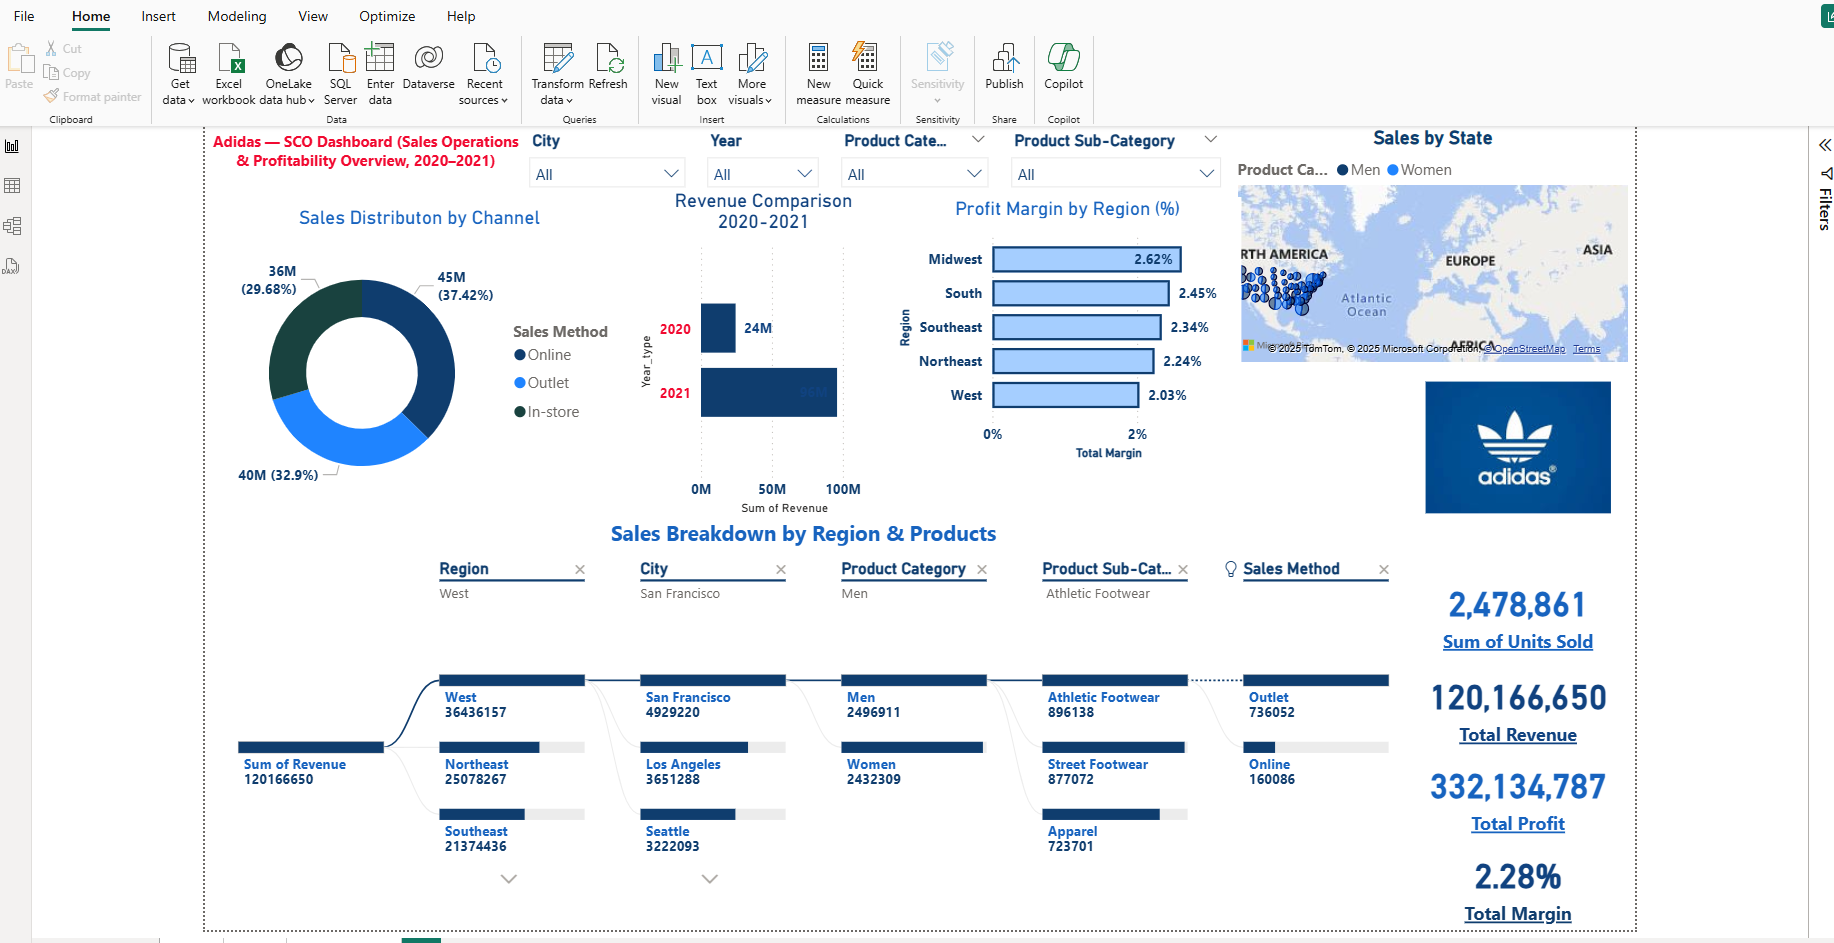

The page's visual inventory and layout, read from the dashboard file:
{"tool":"powerbi","page":{"name":"SCO","canvas":[1280,720],"ordinal":1},"visuals":[{"type":"card","fields":{"Values":["Measure.Total Revenue"]},"box":[1072,480,208,80],"z":0},{"type":"card","fields":{"Values":["Measure.Total Profit"]},"box":[1072,560,208,80],"z":1000},{"type":"card","fields":{"Values":["Measure.Total Margin"]},"box":[1072,640,208,80],"z":2000},{"type":"map","title":"Sales by State","fields":{"Category":["Data Sales Adidas.State"],"Size":["Sum(Data Sales Adidas.Revenue)"],"Series":["Data Sales Adidas.Product Category"]},"box":[920,0,360,216],"z":3000},{"type":"decompositionTreeVisual","title":"Sales Breakdown by Region & Products","fields":{"ExplainBy":["Data Sales Adidas.Region","Data Sales Adidas.City","Data Sales Adidas.Product Category","Data Sales Adidas.Product Sub-Category","Data Sales Adidas.Sales Method"],"Analyze":["Sum(Data Sales Adidas.Revenue)"]},"box":[0,352,1072,368],"z":4000},{"type":"image","box":[1088,224,176,128],"z":5000},{"type":"slicer","fields":{"Values":["Data Sales Adidas.Year_type"]},"box":[440,0,120,64],"z":6000},{"type":"slicer","fields":{"Values":["Data Sales Adidas.City"]},"box":[280,0,160,64],"z":7000},{"type":"slicer","fields":{"Values":["Data Sales Adidas.Product Sub-Category"]},"box":[712,0,208,64],"z":8000},{"type":"slicer","fields":{"Values":["Data Sales Adidas.Product Category"]},"box":[560,0,152,64],"z":9000},{"type":"clusteredBarChart","title":"Revenue Comparison 2020-2021","fields":{"Category":["Data Sales Adidas.Year_type"],"Y":["Sum(Data Sales Adidas.Revenue)"]},"box":[384,56,232,296],"z":10000},{"type":"donutChart","title":"Sales Distributon by Channel","fields":{"Category":["Data Sales Adidas.Sales Method"],"Y":["Sum(Data Sales Adidas.Revenue)"]},"box":[0,72,384,280],"z":11000},{"type":"clusteredBarChart","title":"Profit Margin by Region (%)","fields":{"Category":["Data Sales Adidas.Region"],"Y":["Measure.Total Margin"]},"box":[616,64,312,240],"z":12000},{"type":"textbox","box":[0,0,288,64],"z":13000},{"type":"card","fields":{"Values":["Sum(Data Sales Adidas.Units Sold)"]},"box":[1072,392,208,88],"z":14000}]}

Visuals, with their boxes on the page's 1280x720 design canvas (x1, y1, x2, y2). These are canvas units, not pixel positions in the 1834x943 screenshot, which may show the page scaled, cropped or inside an application window:
card - Measure.Total Revenue: [1072,480,1280,560]
card - Measure.Total Profit: [1072,560,1280,640]
card - Measure.Total Margin: [1072,640,1280,720]
"Sales by State" map: [920,0,1280,216]
"Sales Breakdown by Region & Products" decompositionTreeVisual: [0,352,1072,720]
image: [1088,224,1264,352]
slicer - Data Sales Adidas.Year_type: [440,0,560,64]
slicer - Data Sales Adidas.City: [280,0,440,64]
slicer - Data Sales Adidas.Product Sub-Category: [712,0,920,64]
slicer - Data Sales Adidas.Product Category: [560,0,712,64]
"Revenue Comparison 2020-2021" clusteredBarChart: [384,56,616,352]
"Sales Distributon by Channel" donutChart: [0,72,384,352]
"Profit Margin by Region (%)" clusteredBarChart: [616,64,928,304]
textbox: [0,0,288,64]
card - Sum(Data Sales Adidas.Units Sold): [1072,392,1280,480]
